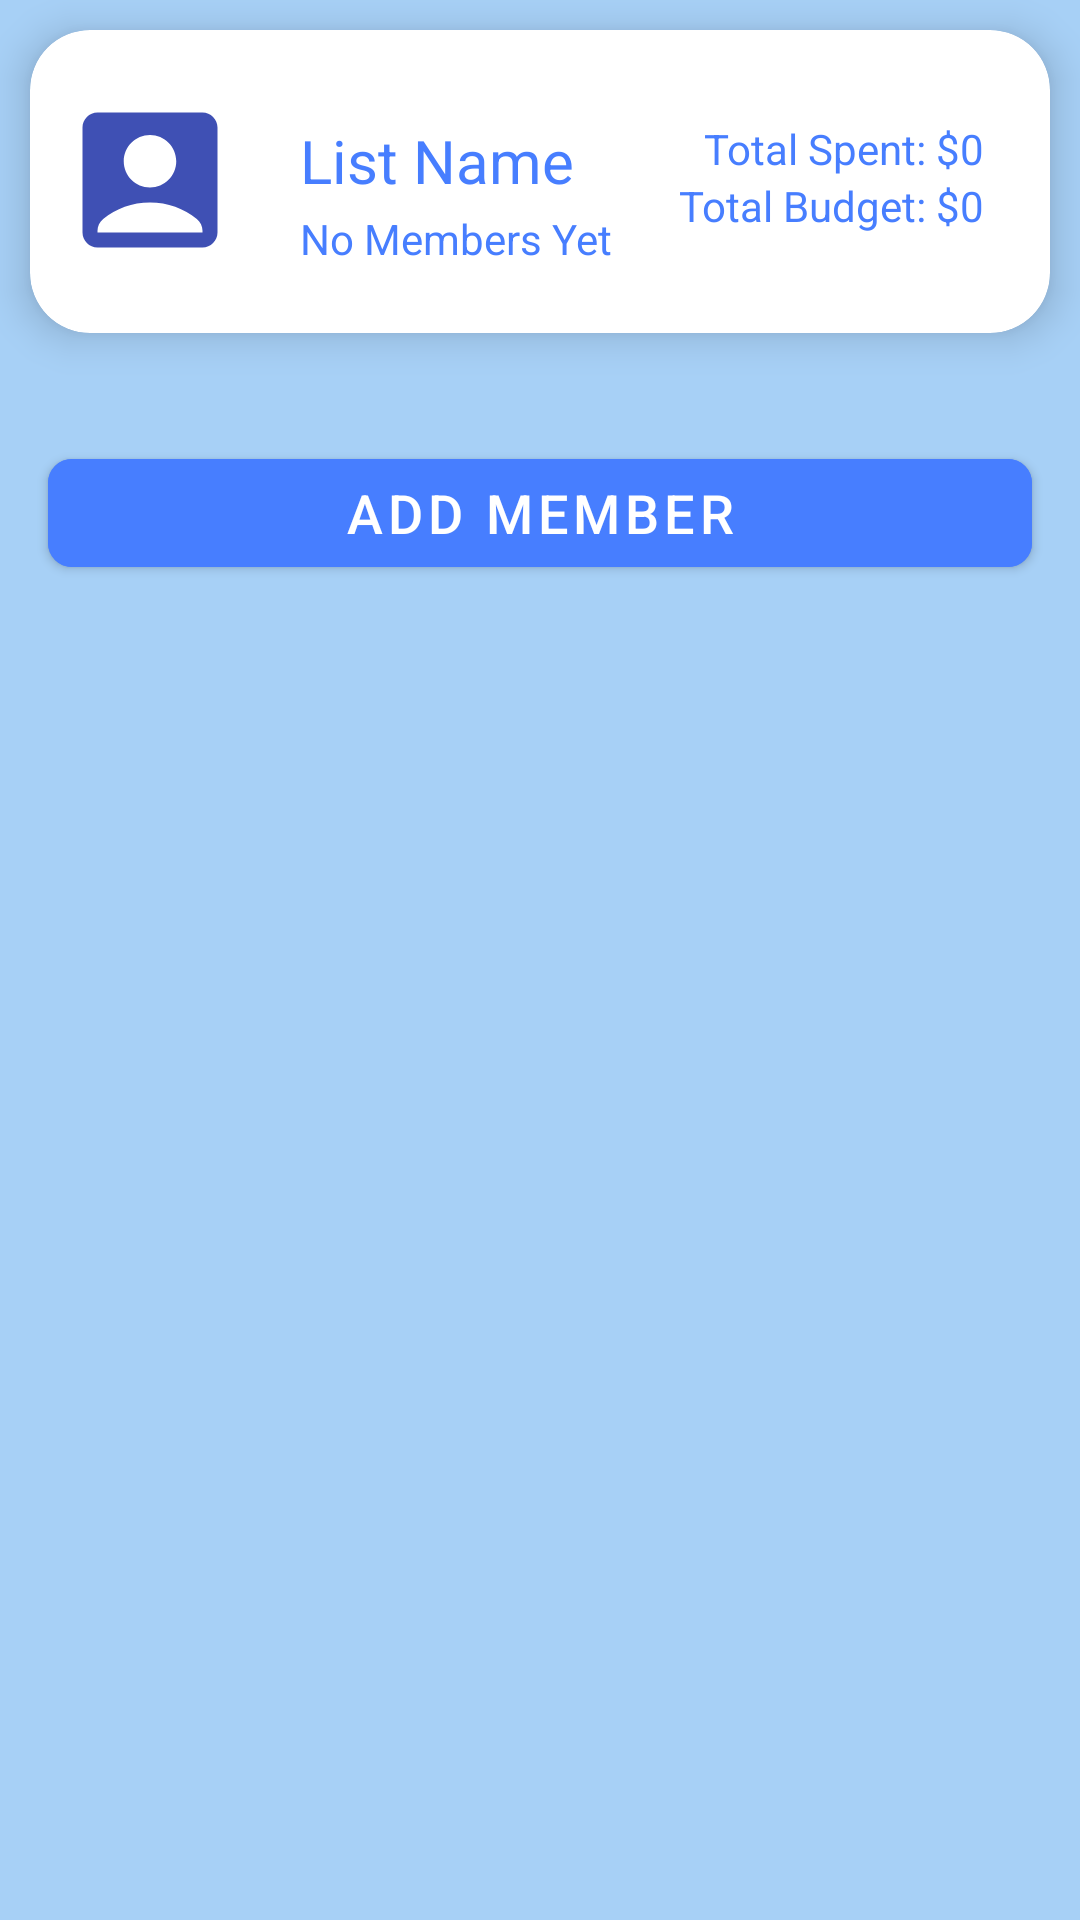

Icon bounding boxes for this 1080x1920 phone screenshot, format (x1, y1, x2, y2):
account box: (82, 112, 218, 248)
